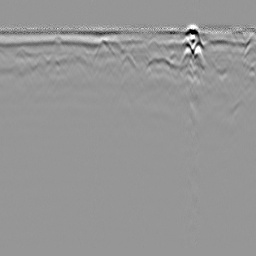cavity: (120, 51, 136, 71)
